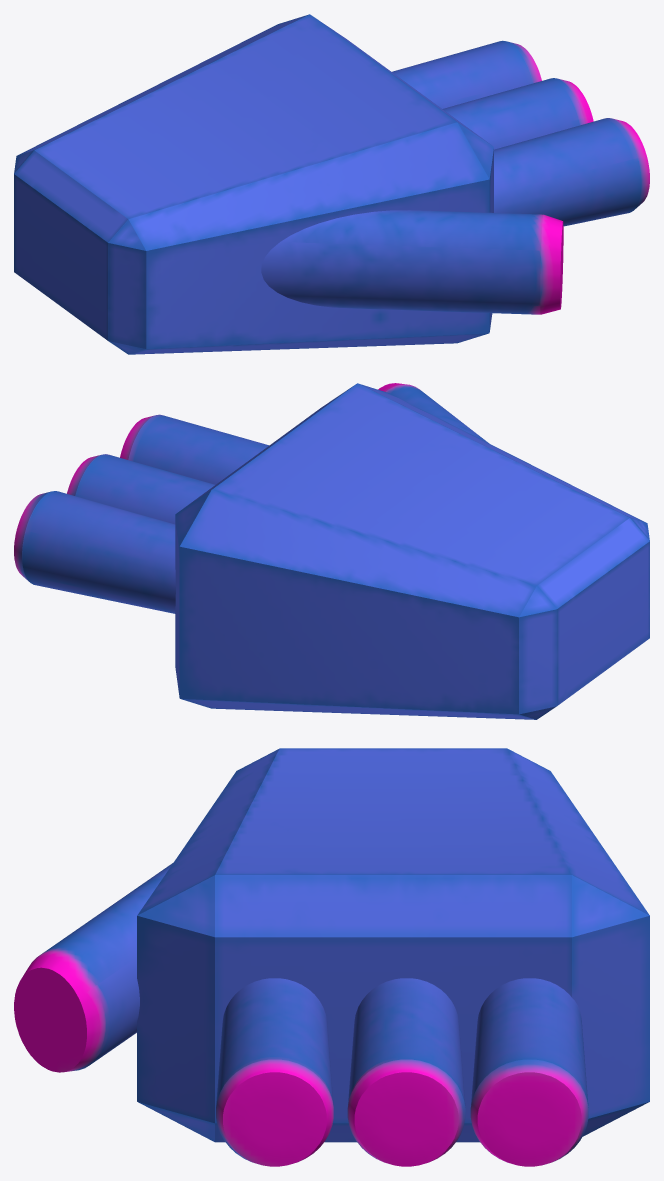
File: robot_hand_L.fbx
The picture shows the model from 3 angles, top to bottom: view 1: azimuth 30°, elevation 25°; view 2: azimuth 150°, elevation 25°; view 3: azimuth 270°, elevation 25°; orthographic projection. The views are drawn at different scales.
Visible parts, largest first — view 1: hand_L; view 2: hand_L; view 3: hand_L.
Boxes of the visible parts, x1,y1,x2,y2 form: hand_L: [14, 14, 649, 354]; hand_L: [14, 383, 649, 719]; hand_L: [14, 748, 649, 1166].
Bounding box in the file's own units: 10.53 × 4.28 × 9.22.
